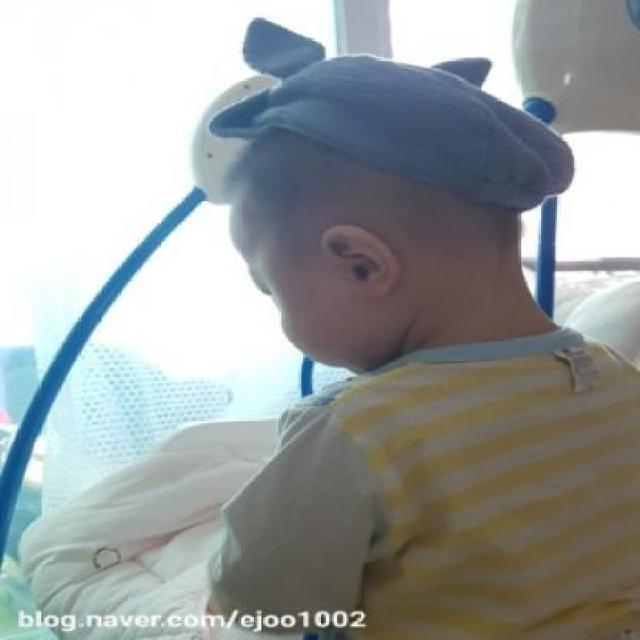hat: (212, 14, 574, 211)
